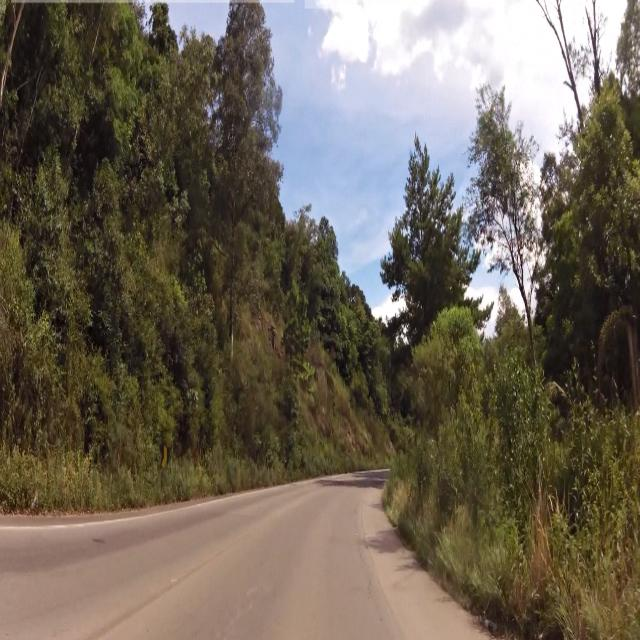Del: (162, 444, 170, 470)
